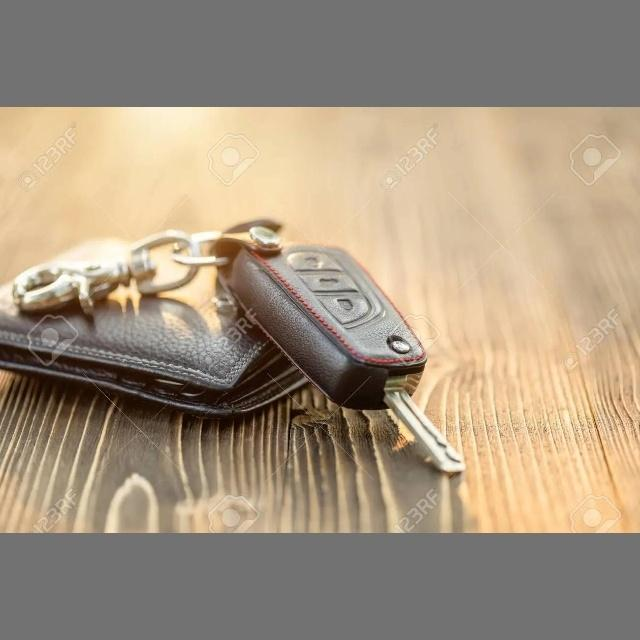Wallet: (6, 232, 284, 423)
